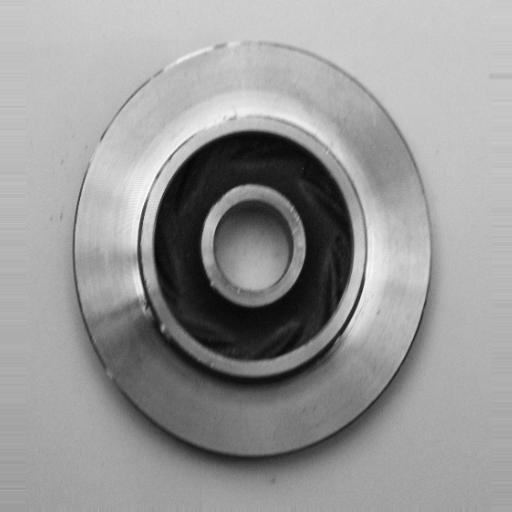scratch: (184, 108, 245, 142), (140, 288, 173, 336)
unpolished_casting: (75, 39, 435, 462)
